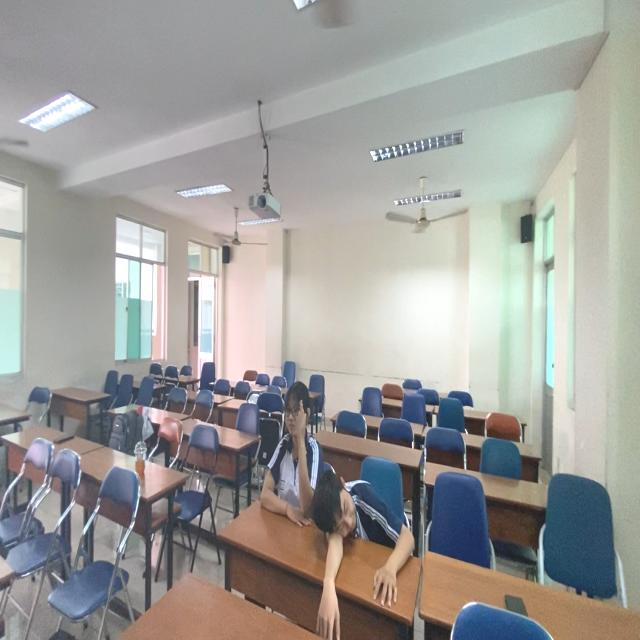raise_hand: (256, 380, 326, 532)
sleep: (311, 474, 421, 565)
